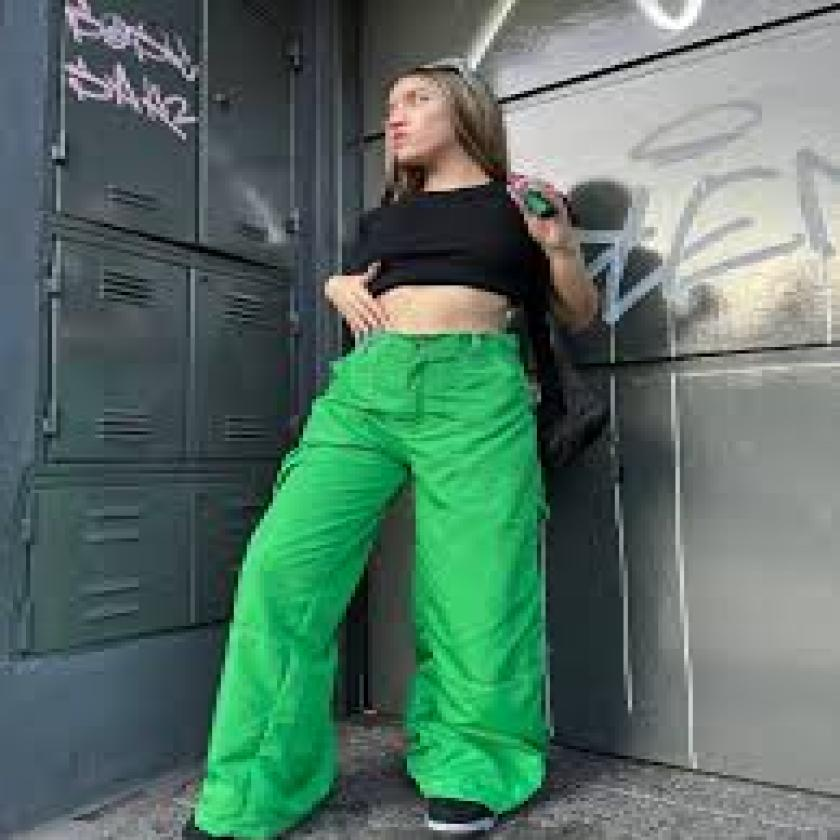Sin_casco: (381, 52, 499, 193)
